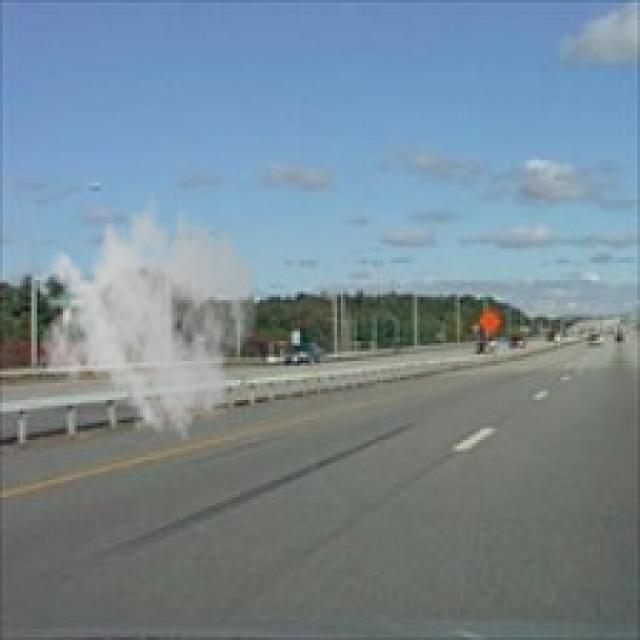Smoke: (40, 177, 260, 443)
